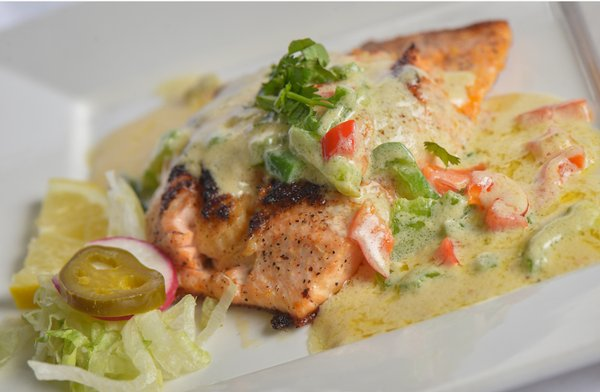sandwich: (58, 21, 600, 357)
